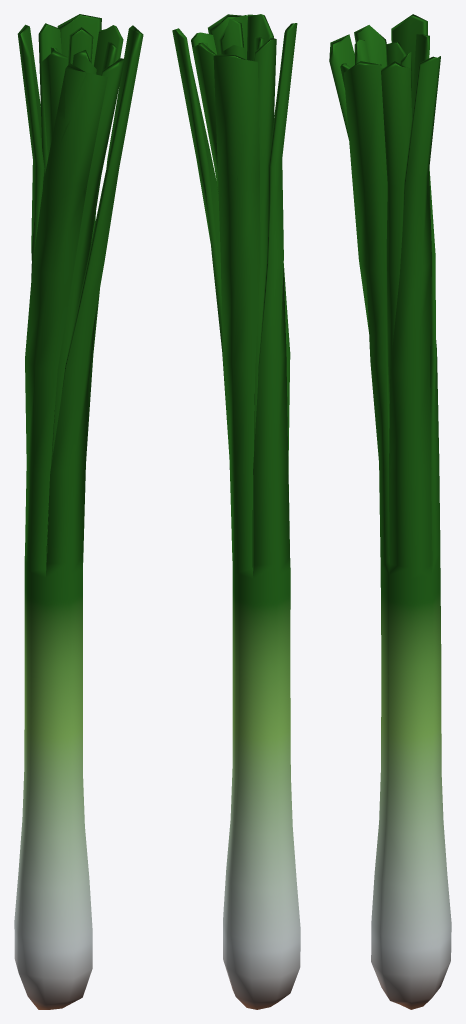
The model's file is greenonion.fbx.
3 views of the same model, side by side, from view 1: azimuth 30°, elevation 25°; view 2: azimuth 210°, elevation 25°; view 3: azimuth 270°, elevation 25° (orthographic).
Parts seen in each view (by area): view 1: GreenOnion; view 2: GreenOnion; view 3: GreenOnion.
Boxes of the visible parts, box(x1,y1,x2,y2) form: GreenOnion: box(14, 14, 143, 1009); GreenOnion: box(172, 14, 300, 1009); GreenOnion: box(329, 14, 451, 1009).
Size of the model in its own units: 70.38 by 654 by 74.45.
